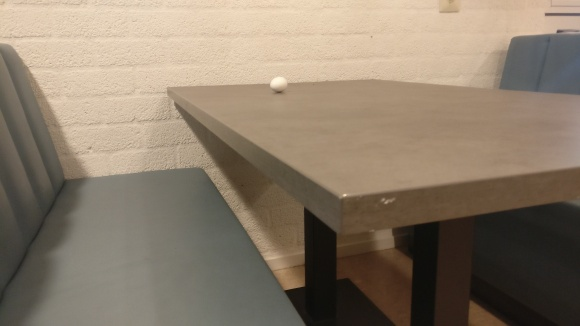egg: (269, 75, 288, 93)
